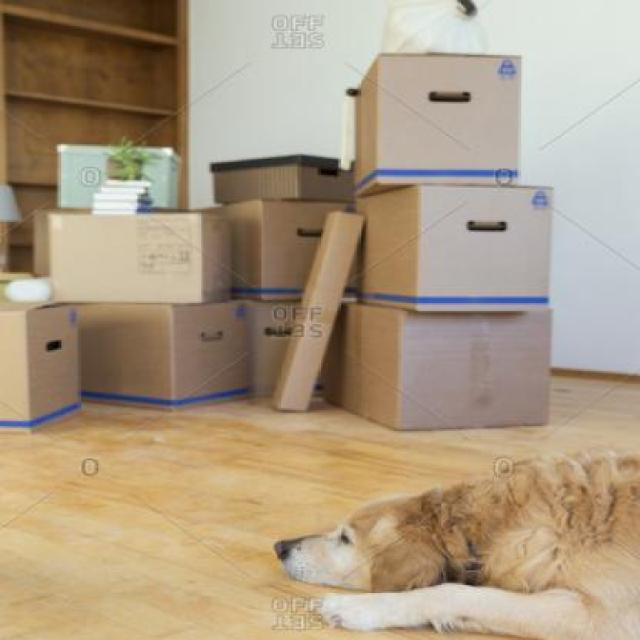box: (346, 291, 571, 458), (338, 190, 584, 312), (338, 37, 517, 196), (30, 206, 238, 316), (88, 290, 254, 426), (226, 202, 360, 312), (5, 292, 84, 432), (246, 296, 332, 402), (205, 152, 342, 202)
